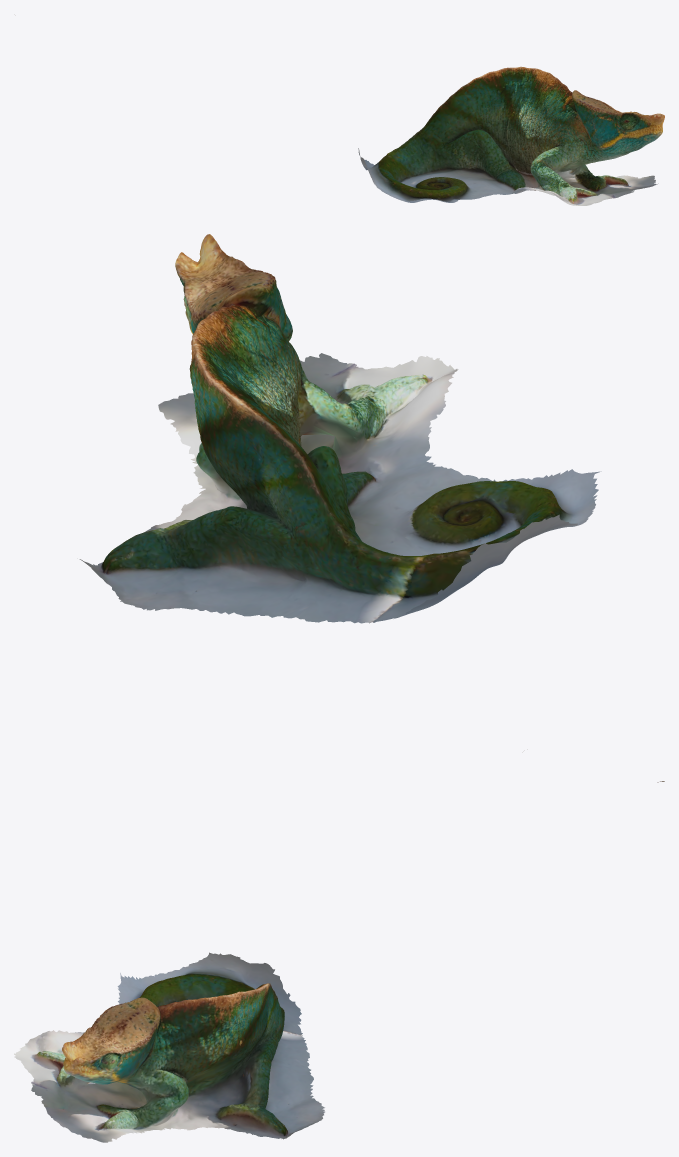
The model's file is chameleon.glb.
3 views of the same model, one above another, from view 1: azimuth 30°, elevation 25°; view 2: azimuth 150°, elevation 25°; view 3: azimuth 270°, elevation 25° (orthographic). The views are drawn at different scales.
Parts seen in each view (by area): view 1: Default_material_1_0; view 2: Default_material_1_0; view 3: Default_material_1_0.
Boxes of the visible parts, bbox=[...] form: Default_material_1_0: bbox=[358, 66, 664, 205]; Default_material_1_0: bbox=[79, 234, 601, 623]; Default_material_1_0: bbox=[14, 781, 664, 1142].
Size of the model in its own units: 19.68 by 5.14 by 22.02.
